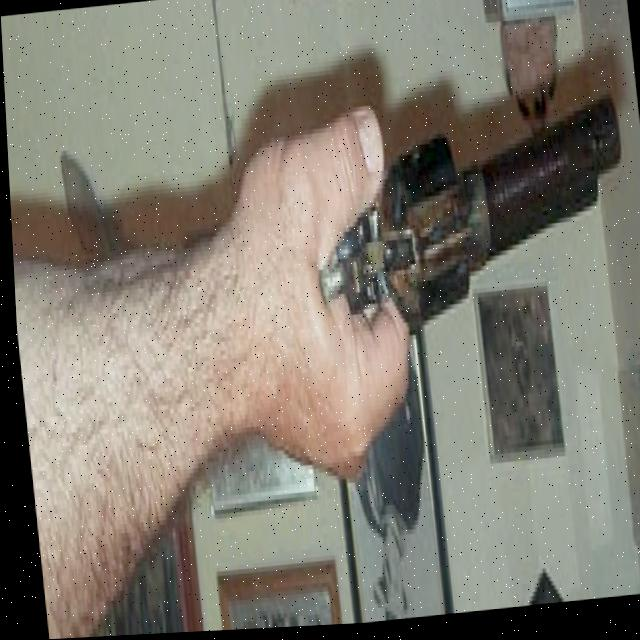pistol: (299, 90, 637, 353)
